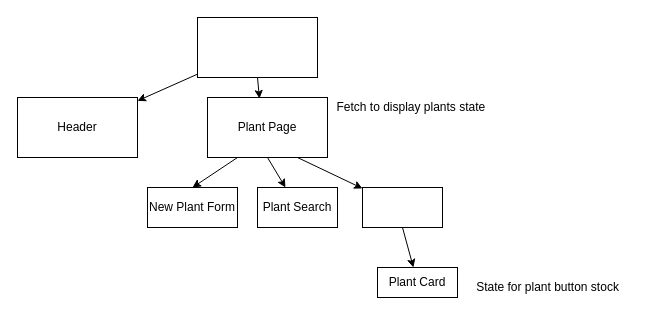
This 645x315 diagram has some shape labels left out. Each missing label, with the centre of its shape:
"APP" belongs at pixel 257 47.
"Plant List" belongs at pixel 402 207.
